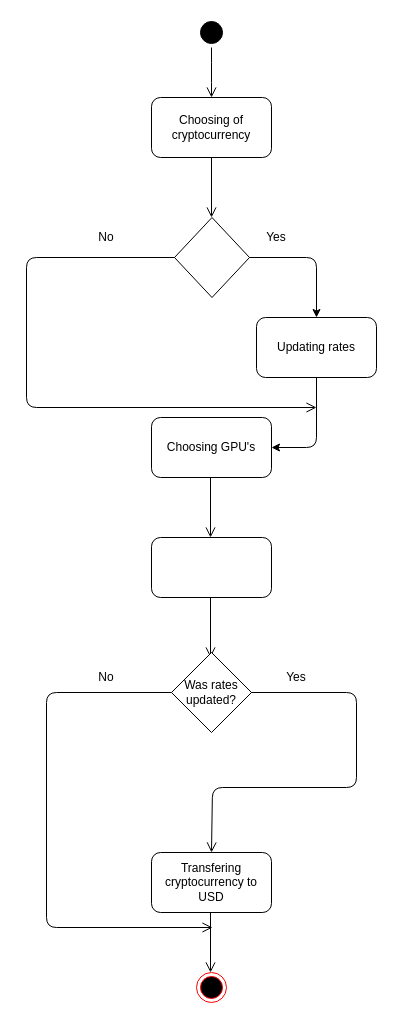
Some shapes in this 394 by 1020 pixel diagram are drawn without their labels. The shapes that lost their labels are listed below. From the top down, each one's centre as x and y in pixels, then its label:
the point at 212,257: Connected to Internet?
the point at 211,567: Choosing amount of GPU's
